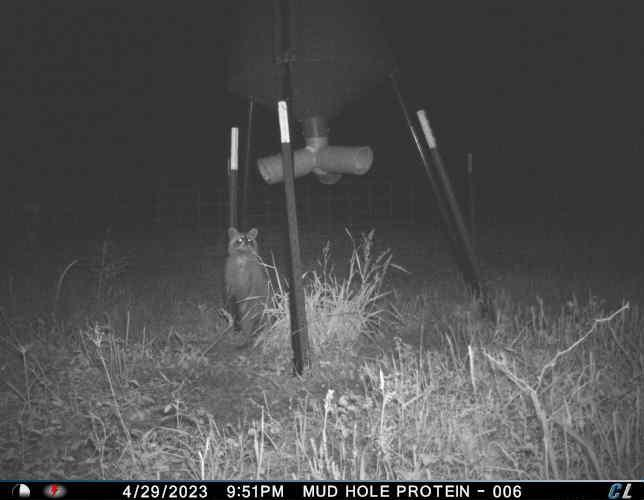Raccoon: (219, 222, 281, 341)
